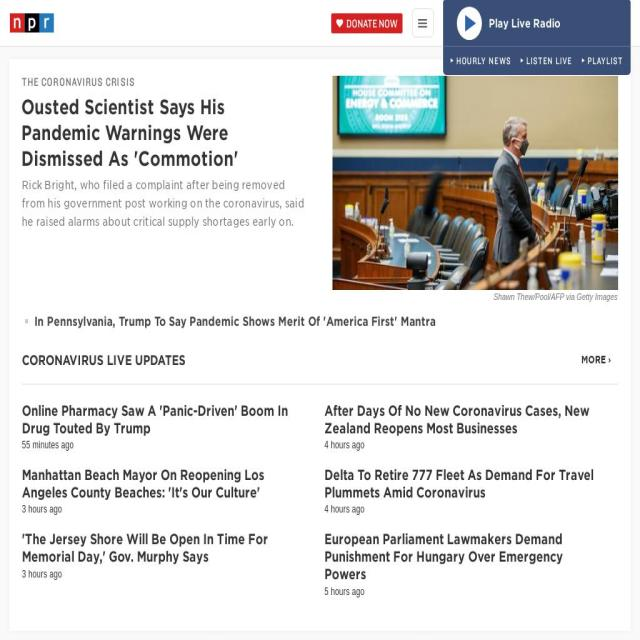button: (333, 76, 618, 290), (22, 94, 307, 172), (25, 301, 615, 330), (22, 176, 307, 231), (443, 0, 631, 46), (450, 47, 511, 75), (332, 12, 402, 34), (520, 47, 572, 75), (581, 47, 624, 75), (10, 12, 54, 34), (412, 8, 434, 38)
heading: (21, 94, 308, 172), (34, 313, 615, 330), (22, 76, 135, 87)
iframe: (22, 346, 618, 612)
image: (333, 76, 618, 290), (10, 12, 54, 34)
link: (22, 176, 307, 231), (378, 16, 398, 30)
text: (333, 289, 618, 302), (488, 16, 560, 30), (450, 53, 511, 67), (520, 53, 572, 67), (581, 53, 624, 67), (346, 16, 379, 30)
